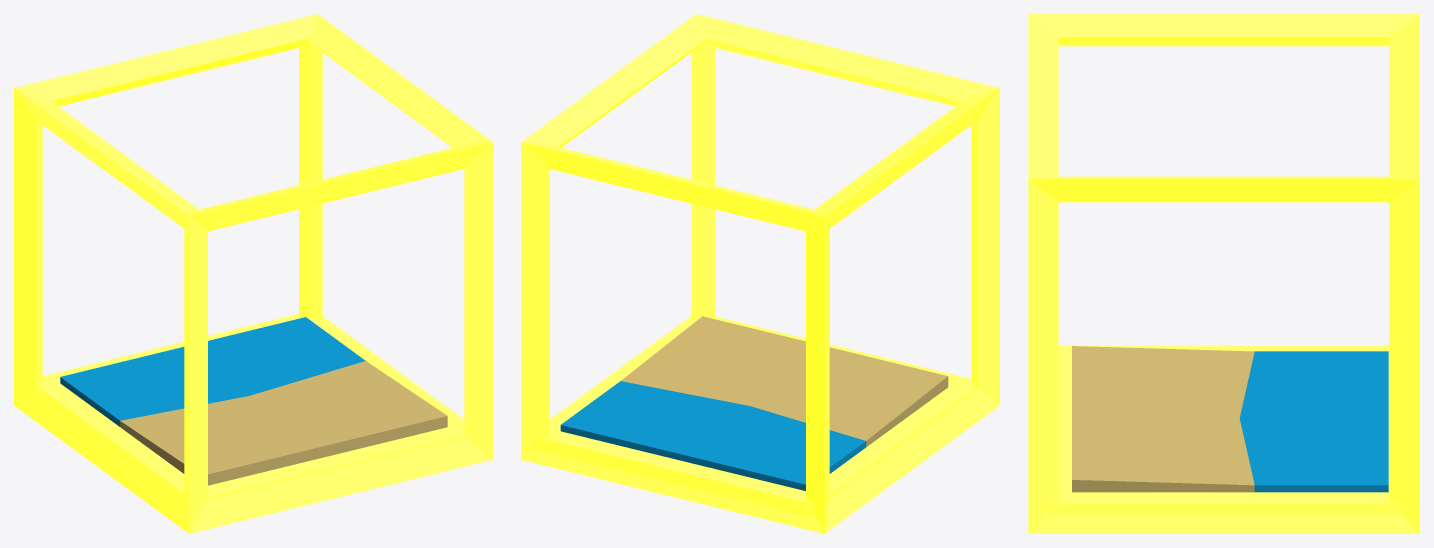
Rendered from Beach Memory Cube.fbx.
The picture shows the model from 3 angles, left to right: view 1: azimuth 30°, elevation 25°; view 2: azimuth 150°, elevation 25°; view 3: azimuth 270°, elevation 25°; orthographic projection. The views are drawn at different scales.
Parts seen in each view (by area): view 1: Cube.045, Cube.047, Cube.046; view 2: Cube.045, Cube.047, Cube.046; view 3: Cube.045, Cube.047, Cube.046.
Boxes of the visible parts, x1,y1,x2,y2 form: Cube.045: (14, 14, 492, 533); Cube.047: (60, 317, 447, 485); Cube.046: (38, 313, 464, 499); Cube.045: (521, 14, 999, 533); Cube.047: (560, 316, 948, 490); Cube.046: (533, 316, 975, 517); Cube.045: (1028, 14, 1419, 533); Cube.047: (1072, 346, 1388, 492); Cube.046: (1047, 347, 1400, 513).
Bounding box in the file's own units: 61.71 × 61.71 × 61.71.
